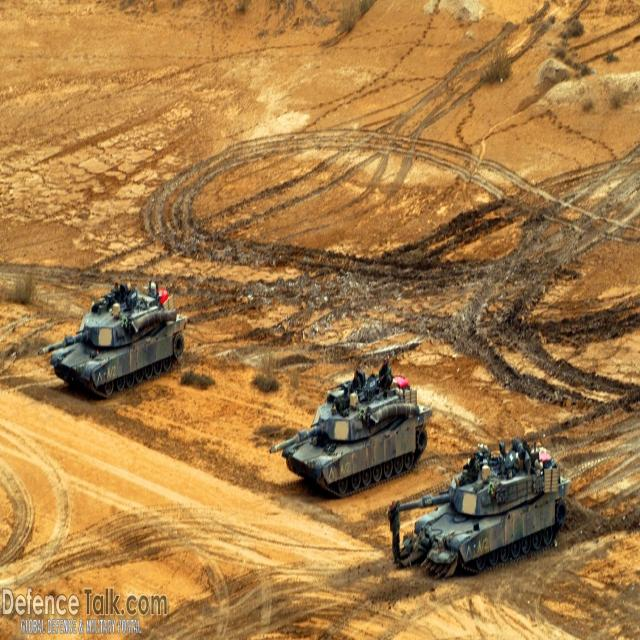tank: (389, 435, 567, 578), (273, 358, 433, 499), (42, 279, 188, 399)
